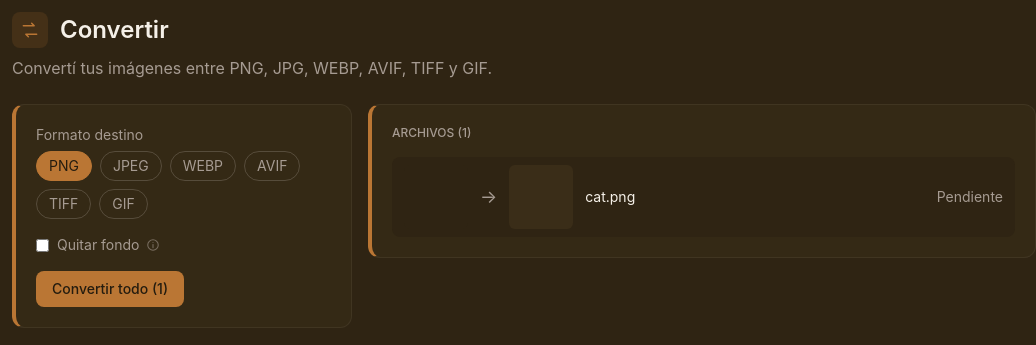
Test case: ConvertScreen › does not log history for a file that failed to convert
Click the button "Convertir todo (1)": [110, 289] box [36,271,184,307]
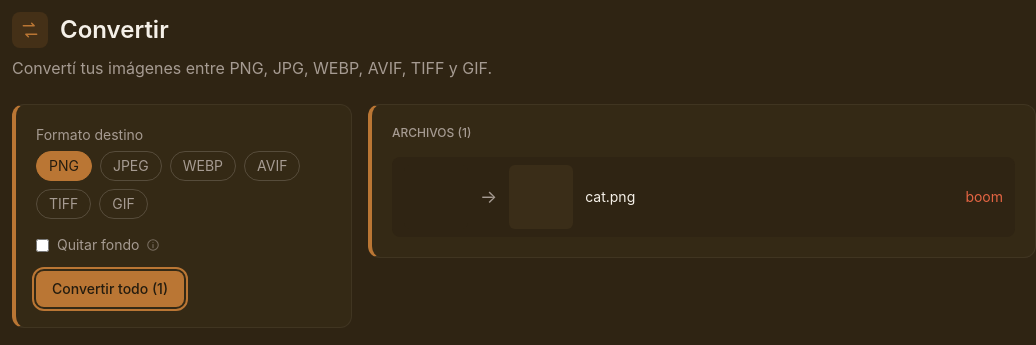
Expected: the text "boom" is shown, [965,187,1003,207]
